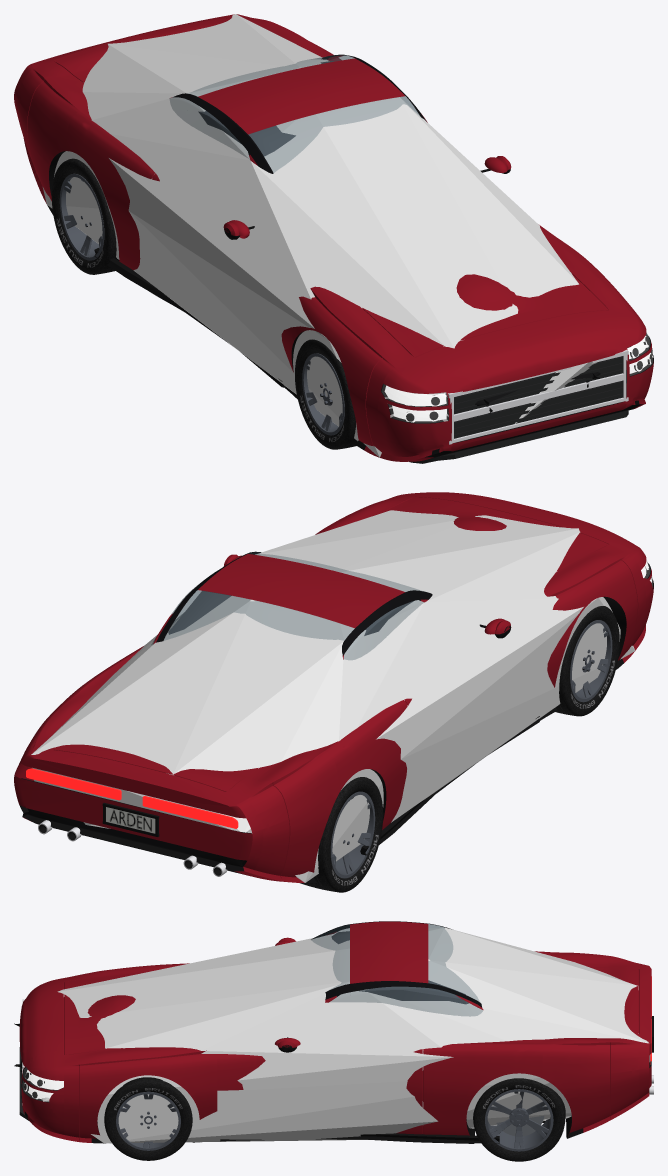
File: arden_bruiser_lod0.glb
3 renders of one model, top to bottom at view 1: azimuth 30°, elevation 25°; view 2: azimuth 150°, elevation 25°; view 3: azimuth 270°, elevation 25°, orthographic. The views are drawn at different scales.
Visible parts, largest first — view 1: col_body, body, trim, glass, wheel_RR, wheel_FR, lights_front, interior; view 2: col_body, body, glass, wheel_RR, wheel_FR, lights_rear, interior, plate_rear, trim, underbody, exhaust; view 3: col_body, body, glass, wheel_RL, wheel_FL, trim, interior, lights_front.
Boxes of the visible parts, bbox=[...] form: col_body: bbox=[42, 14, 653, 457]; body: bbox=[14, 14, 653, 461]; trim: bbox=[94, 156, 628, 463]; glass: bbox=[169, 55, 419, 172]; wheel_RR: bbox=[51, 158, 119, 274]; wheel_FR: bbox=[295, 339, 357, 449]; lights_front: bbox=[382, 332, 652, 422]; interior: bbox=[198, 61, 333, 156]; col_body: bbox=[31, 510, 634, 882]; body: bbox=[14, 492, 653, 882]; glass: bbox=[151, 552, 423, 659]; wheel_RR: bbox=[300, 777, 383, 892]; wheel_FR: bbox=[555, 606, 619, 716]; lights_rear: bbox=[26, 768, 238, 828]; interior: bbox=[168, 590, 413, 635]; plate_rear: bbox=[102, 802, 159, 836]; trim: bbox=[223, 554, 539, 855]; underbody: bbox=[33, 596, 626, 875]; exhaust: bbox=[38, 820, 227, 876]; col_body: bbox=[41, 927, 650, 1143]; body: bbox=[14, 921, 651, 1143]; glass: bbox=[311, 924, 482, 1016]; wheel_RL: bbox=[473, 1078, 565, 1161]; wheel_FL: bbox=[104, 1077, 192, 1160]; trim: bbox=[19, 937, 499, 1143]; interior: bbox=[331, 931, 468, 1004]; lights_front: bbox=[22, 1068, 63, 1101].
Size of the model in its own units: 1.92 by 1.38 by 4.92.
Materials: 15 (3 with a texture image).
